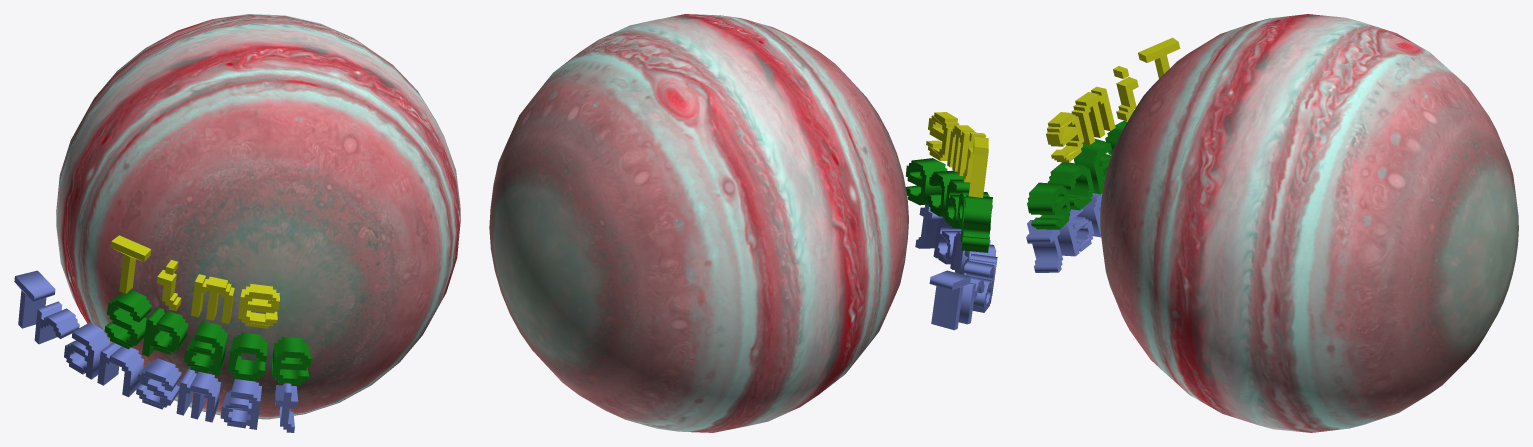
File: Time Space Transmat title.glb
3 renders of one model, left to right at view 1: azimuth 30°, elevation 25°; view 2: azimuth 150°, elevation 25°; view 3: azimuth 270°, elevation 25°, orthographic. The views are drawn at different scales.
Parts seen in each view (by area): view 1: Sphere, Transmat, Space, Time; view 2: Sphere, Transmat, Space, Time; view 3: Sphere, Time, Space, Transmat.
Part boxes in pixels (<box>): Sphere: <box>56,14,460,419</box>; Transmat: <box>14,270,298,432</box>; Space: <box>104,289,311,384</box>; Time: <box>110,235,279,328</box>; Sphere: <box>489,14,908,432</box>; Transmat: <box>915,204,997,330</box>; Space: <box>905,158,992,252</box>; Time: <box>926,112,988,197</box>; Sphere: <box>1100,14,1518,432</box>; Time: <box>1046,37,1180,162</box>; Space: <box>1027,120,1127,229</box>; Transmat: <box>1026,193,1102,272</box>.
Size of the model in its own units: 7.54 by 6.31 by 7.42.
Materials: 4 (1 with a texture image).
